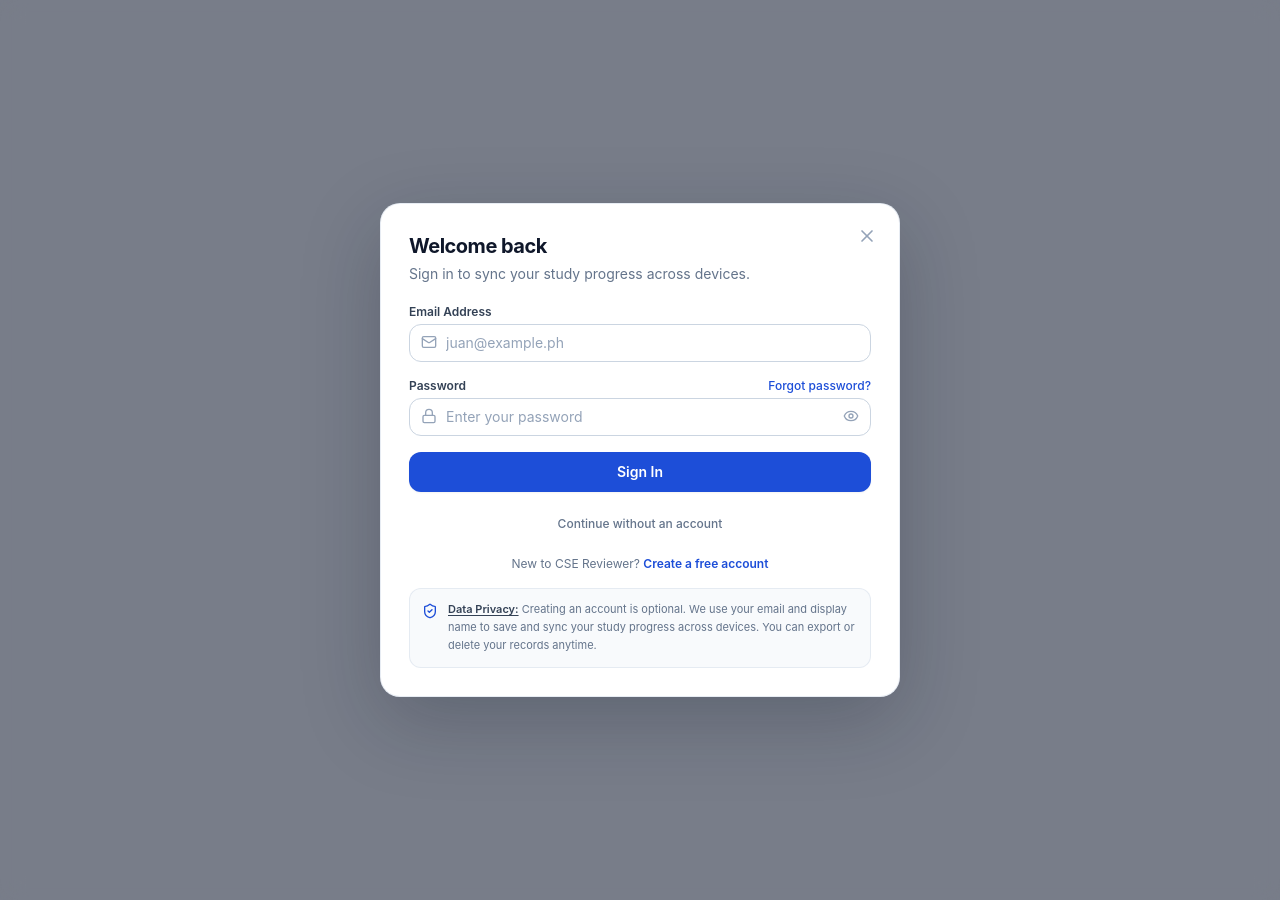
it: AuthModal Component — Guest First & RA 10173 Compliance › switches to Create Account mode and reveals display name input
Step 1. Click the button "Create a free account" → (706, 564), box x1=643 y1=556 x2=768 y2=572
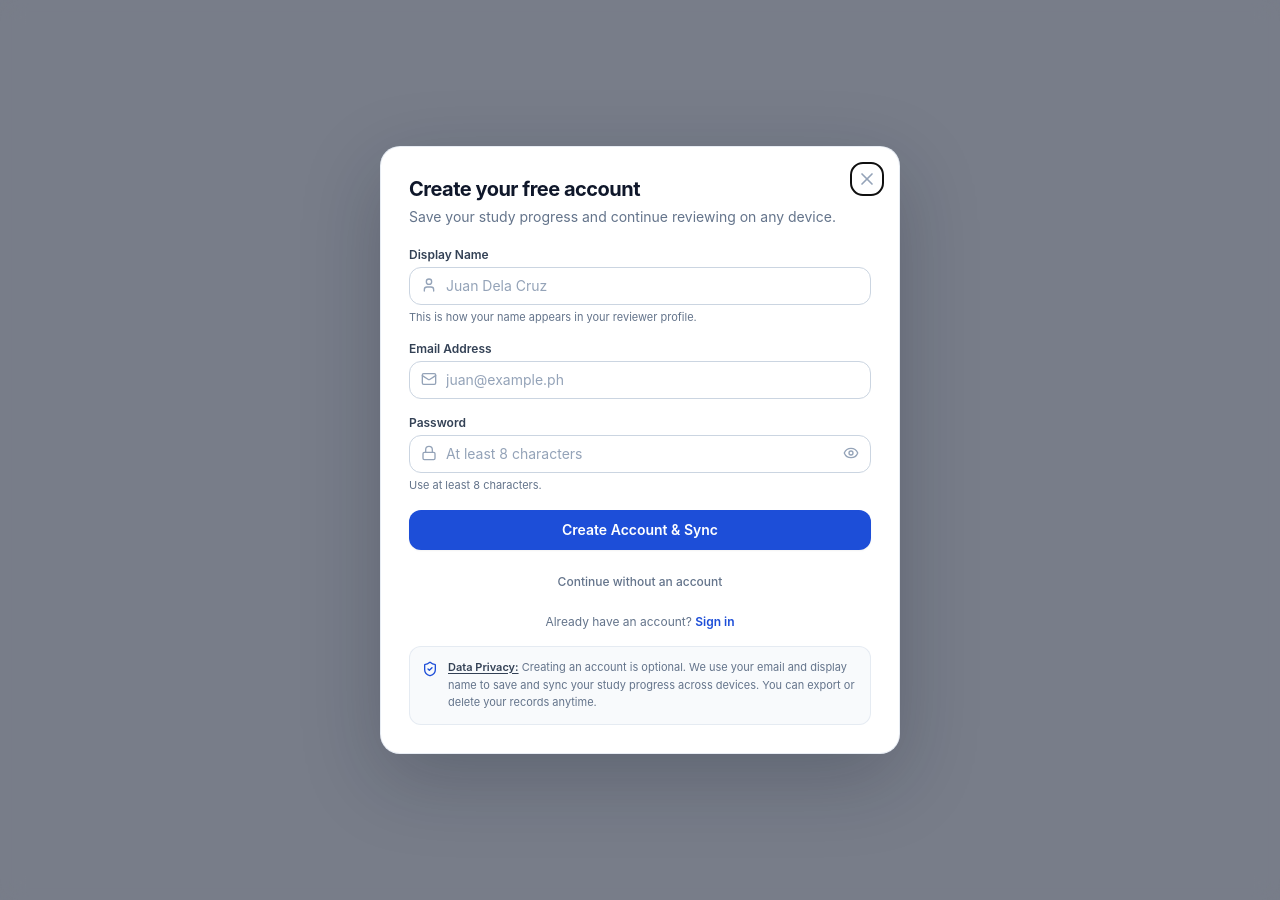
Result: the heading "Create your free account" is shown at x1=409 y1=177 x2=640 y2=201
Result: the field with placeholder "Juan Dela Cruz" is shown at x1=409 y1=267 x2=871 y2=305
Result: the text "This is how your name appears in your reviewer profile." is shown at x1=409 y1=310 x2=697 y2=324
